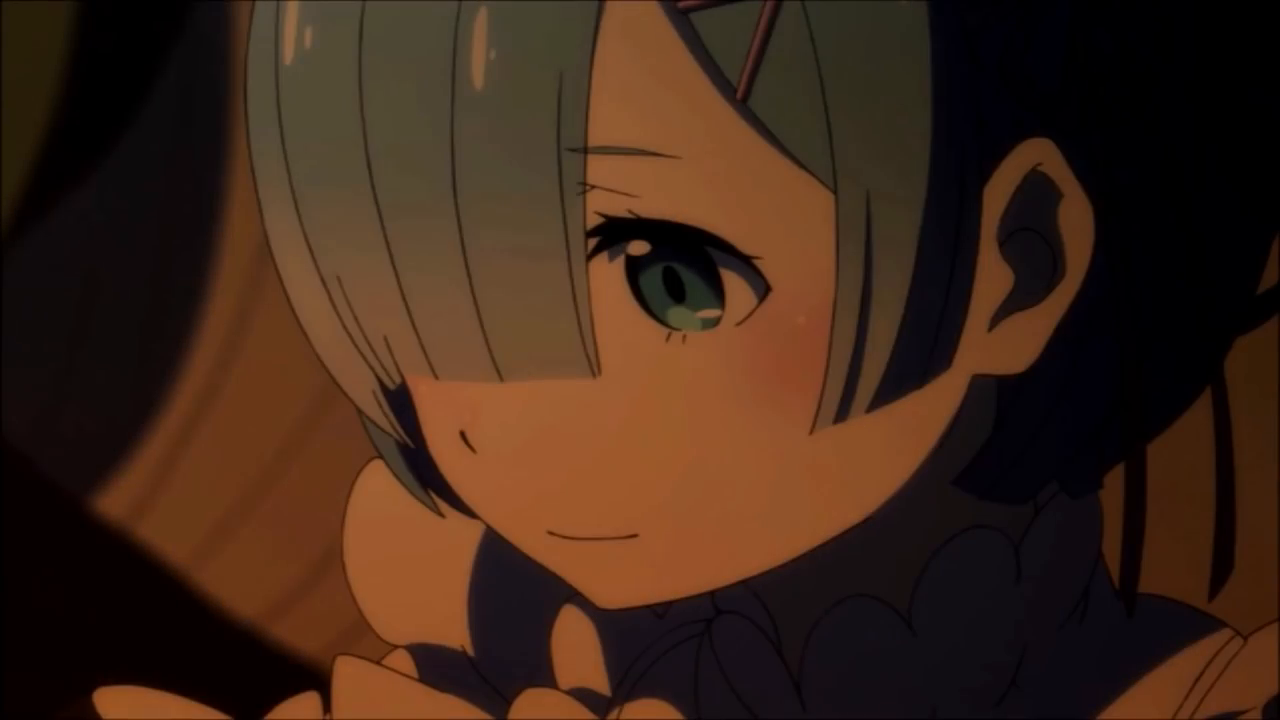REM: (251, 4, 1217, 618)
